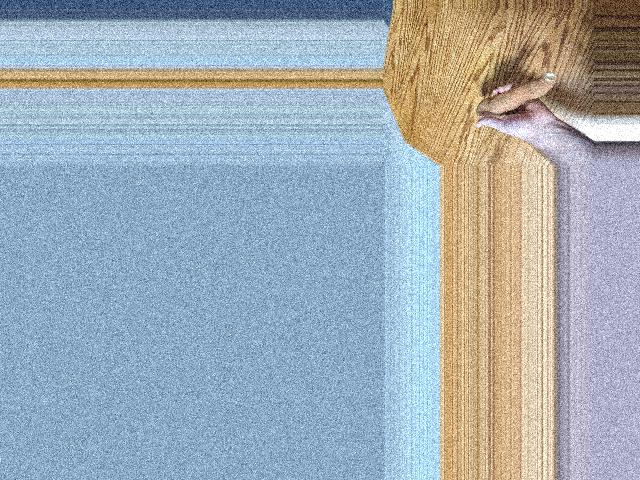sweet_potato: (472, 73, 557, 114)
